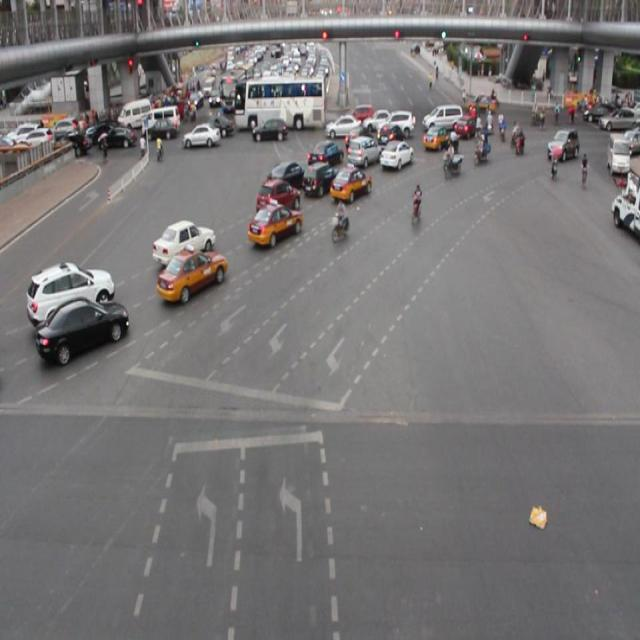car: (38, 297, 129, 357), (27, 262, 116, 323), (156, 250, 225, 301), (152, 218, 216, 266), (246, 201, 305, 247), (256, 178, 299, 219), (330, 163, 373, 203), (265, 158, 307, 193), (303, 159, 339, 195), (346, 134, 382, 168), (546, 127, 579, 162), (307, 137, 343, 168), (380, 136, 412, 170), (422, 122, 451, 153)
